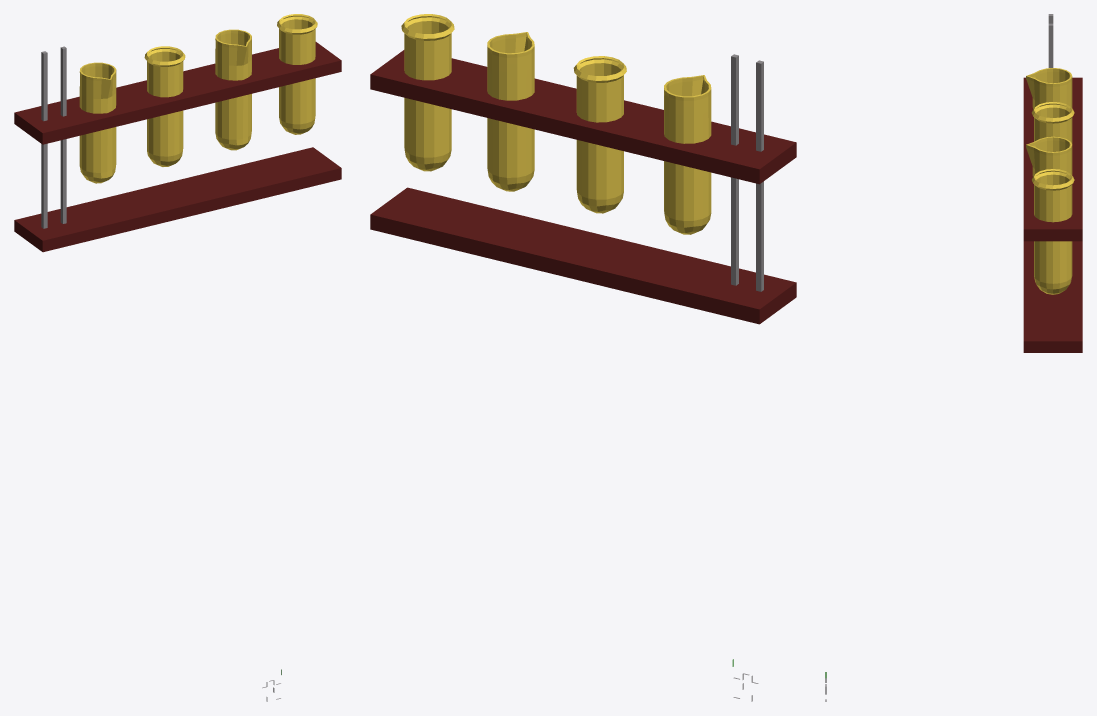
File: probeta2color.fbx
3 views of the same model, side by side, from view 1: azimuth 30°, elevation 25°; view 2: azimuth 150°, elevation 25°; view 3: azimuth 270°, elevation 25° (orthographic). The views are drawn at different scales.
Parts seen in each view (by area): view 1: Cube.005, Cube.002, Roundcube.001, Roundcube, Roundcube.003, Roundcube.002, Cube.004, Cube.003; view 2: Cube.005, Cube.002, Roundcube.003, Roundcube.002, Roundcube, Roundcube.001, Cube.004, Cube.003; view 3: Cube.005, Cube.002, Roundcube.003, Roundcube.001, Roundcube.002, Roundcube.
Part boxes in pixels (box(x1,y1,x2,y2)): Cube.005: box(14, 147, 341, 252); Cube.002: box(14, 42, 341, 144); Roundcube.001: box(79, 62, 116, 183); Roundcube: box(144, 46, 185, 166); Roundcube.003: box(277, 14, 317, 134); Roundcube.002: box(215, 29, 251, 150); Cube.004: box(41, 51, 47, 228); Cube.003: box(60, 46, 66, 223); Cube.005: box(370, 187, 796, 324); Cube.002: box(370, 50, 796, 184); Roundcube.003: box(401, 14, 454, 171); Roundcube.002: box(487, 32, 534, 191); Roundcube: box(573, 56, 626, 213); Roundcube.001: box(664, 75, 711, 234); Cube.004: box(756, 60, 763, 291); Cube.003: box(731, 54, 738, 285); Cube.005: box(1023, 241, 1082, 352); Cube.002: box(1023, 77, 1082, 241); Roundcube.003: box(1032, 169, 1074, 294); Roundcube.001: box(1026, 68, 1072, 108); Roundcube.002: box(1026, 136, 1072, 176); Roundcube: box(1031, 102, 1074, 143).
Bounding box in the file's own units: 189 × 362 × 136.
